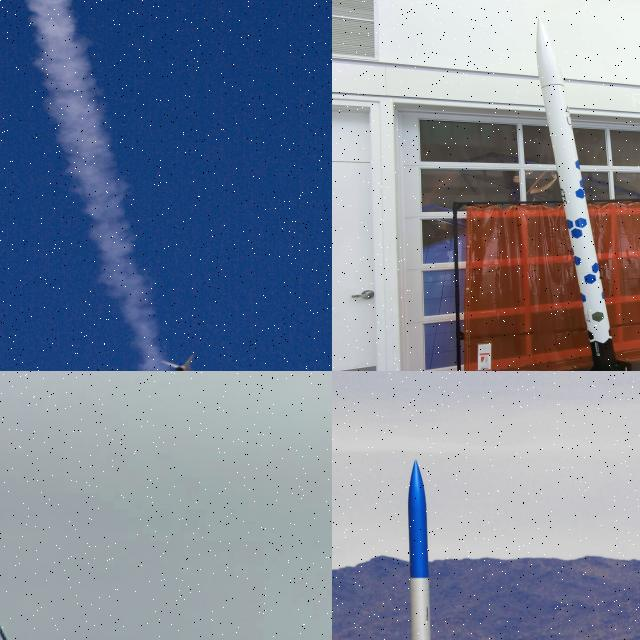Rocket: (536, 14, 633, 371), (396, 458, 457, 640), (0, 615, 22, 640)
